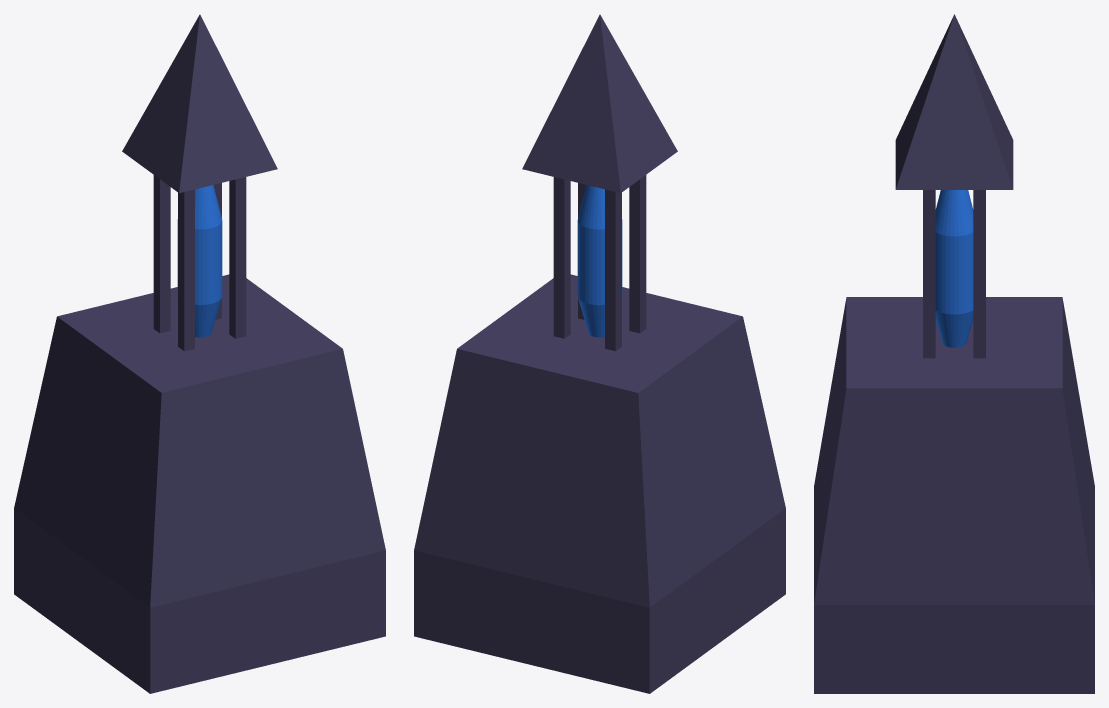
Rendered from TowerMage.fbx.
The picture shows the model from 3 angles, left to right: view 1: azimuth 30°, elevation 25°; view 2: azimuth 150°, elevation 25°; view 3: azimuth 270°, elevation 25°; orthographic projection. The views are drawn at different scales.
Parts seen in each view (by area): view 1: Tower, Roof, Colones, Crystal; view 2: Tower, Roof, Colones, Crystal; view 3: Tower, Roof, Crystal, Colones.
Boxes of the visible parts, box(x1,y1,x2,y2) form: Tower: box(14, 274, 385, 693); Roof: box(122, 14, 277, 193); Colones: box(153, 175, 246, 351); Crystal: box(177, 185, 222, 337); Tower: box(414, 274, 785, 693); Roof: box(522, 14, 677, 193); Colones: box(553, 175, 646, 351); Crystal: box(577, 185, 622, 337); Tower: box(814, 297, 1094, 693); Roof: box(895, 14, 1013, 189); Crystal: box(935, 190, 973, 347); Colones: box(923, 190, 985, 358).
Size of the model in its own units: 280 by 682 by 280.
